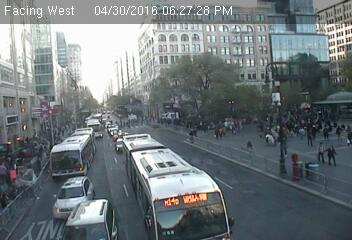neg: (128, 112, 139, 127), (255, 35, 262, 44)
pos: (311, 138, 331, 164), (323, 143, 340, 166), (304, 128, 316, 144), (321, 124, 332, 139), (188, 128, 197, 141)
